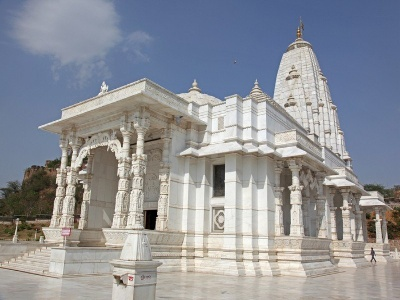torana: (42, 105, 152, 254)
